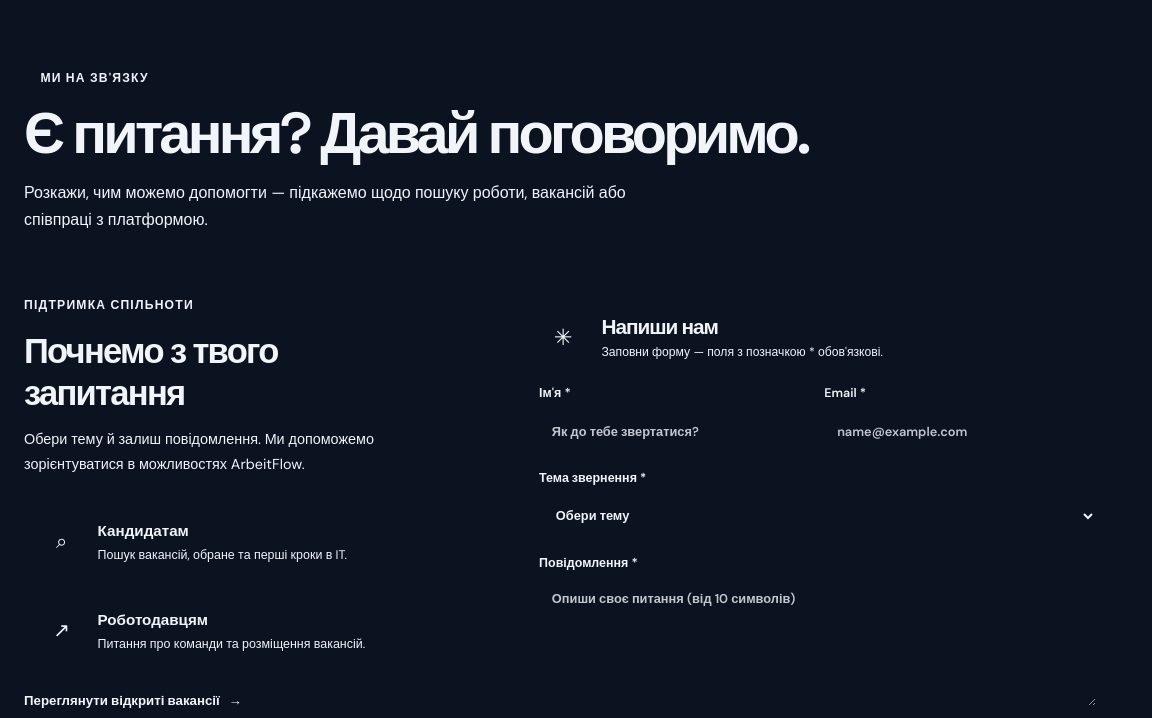
Scenario: ContactsPage › shows a confirmation for valid input and clears it after an edit
Type "Олена" into the field labelled "Ім'я *" at (675, 431), box [539,408,811,454]
Type "olena@example.com" into the field labelled "Email *" at (960, 431), box [824,408,1096,454]
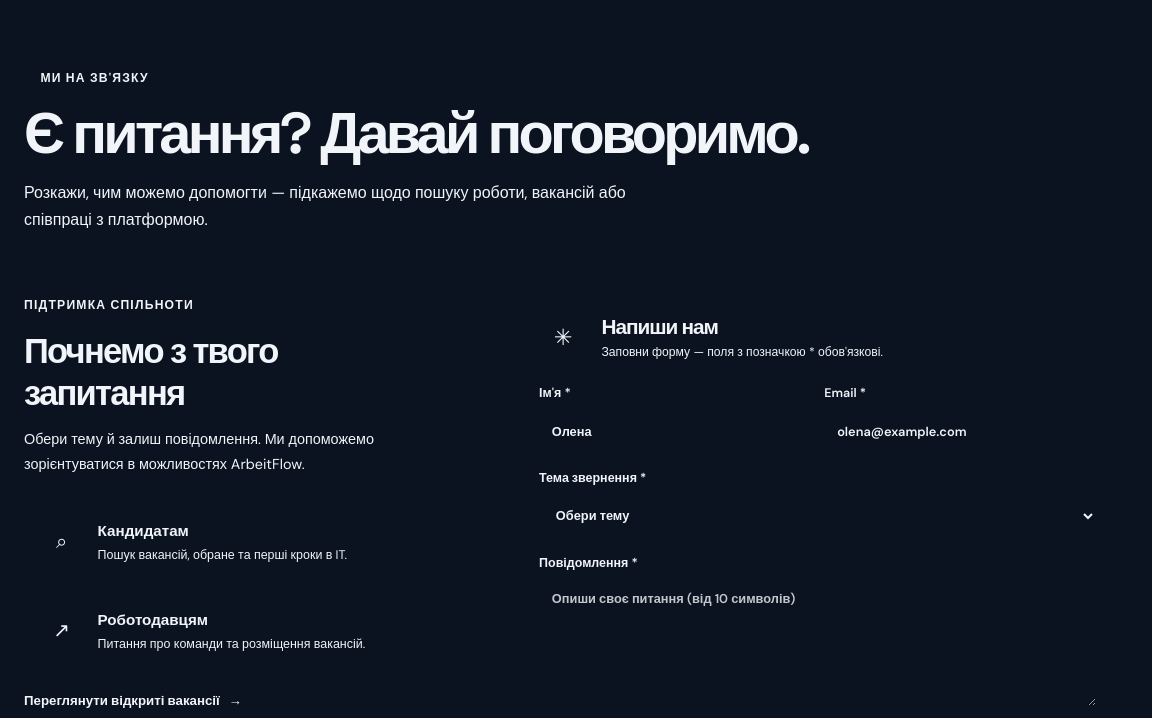
Select "Пошук вакансій" in the dropdown labelled "Тема звернення *" at (818, 516), box [539,493,1096,539]
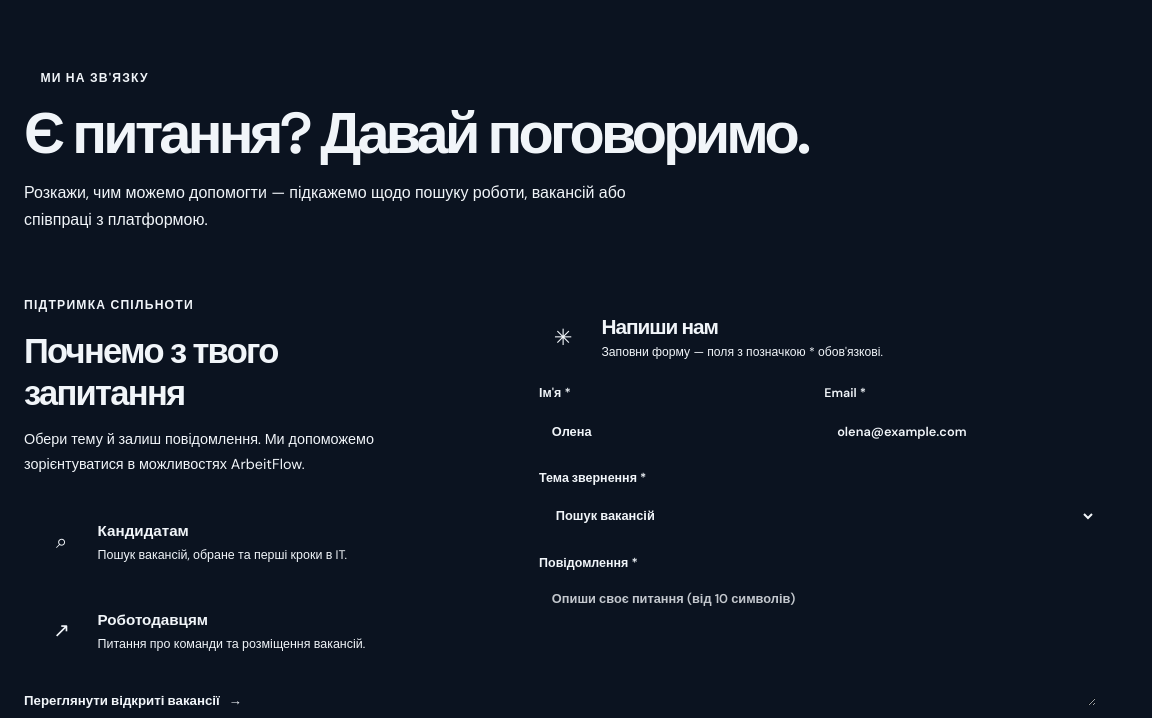
Type "Допоможіть знайти вакансію для початківця." into the text box labelled "Повідомлення *" at (818, 642), box [539,578,1096,706]
(page scrolled)
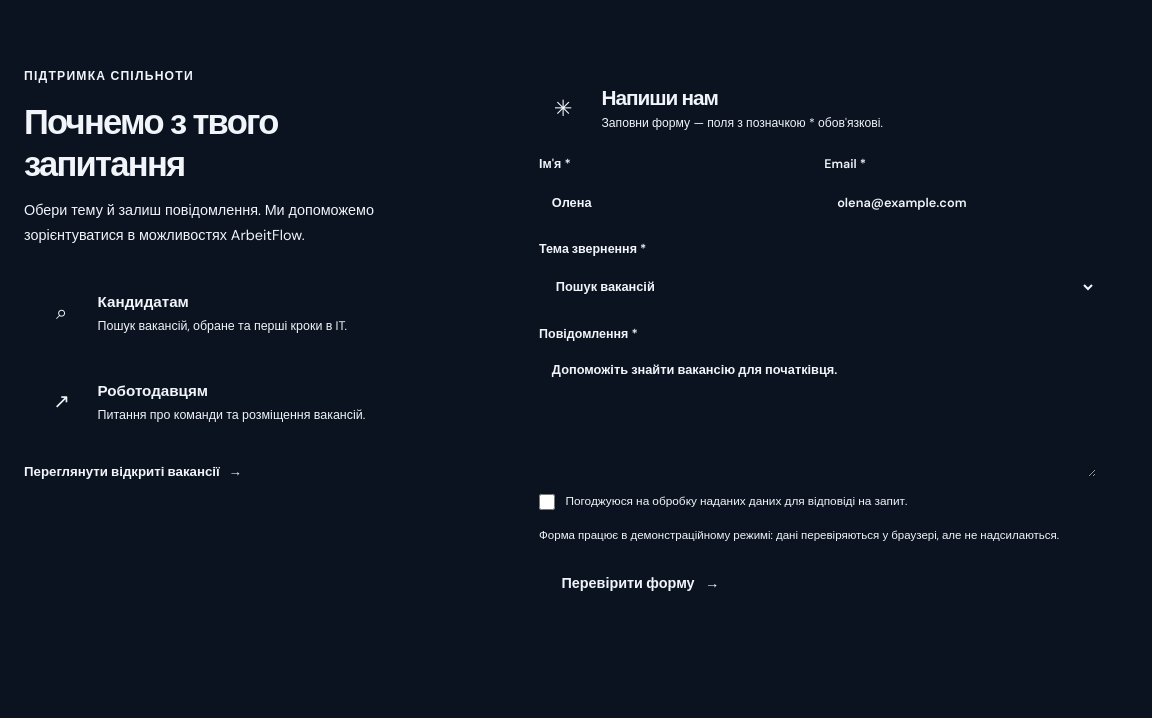
Click the checkbox at (547, 502), box [539,494,555,510]
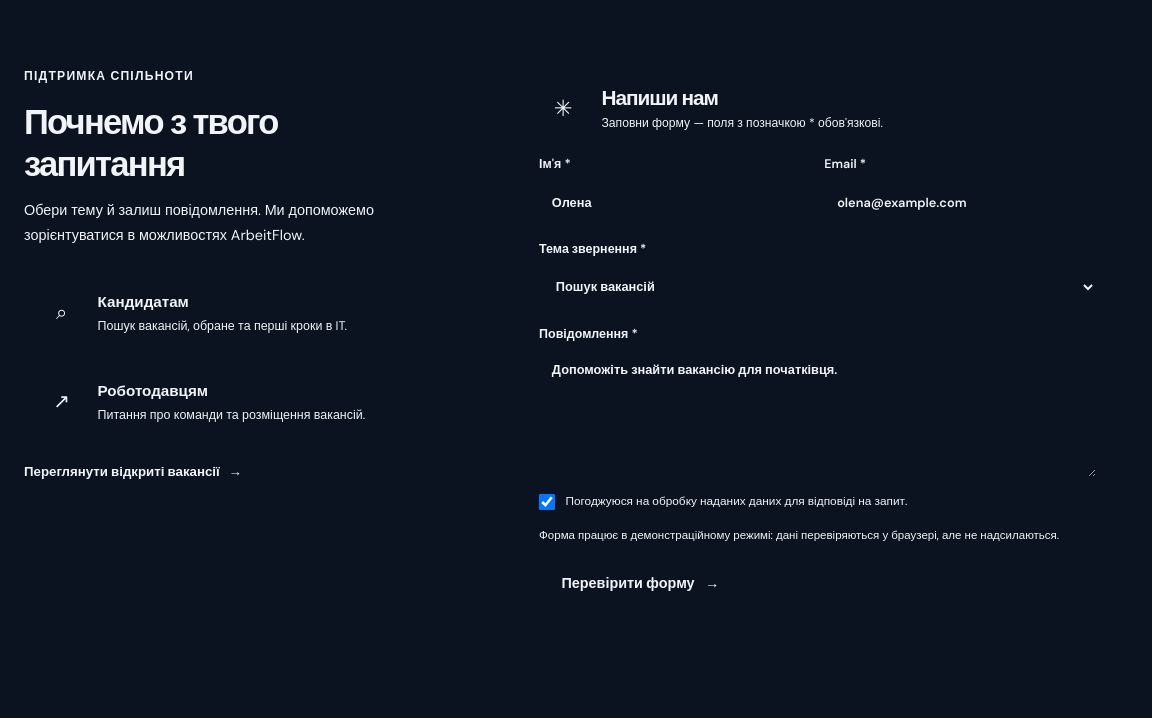
Click the button "Перевірити форму →" at (640, 583), box [539,560,742,606]
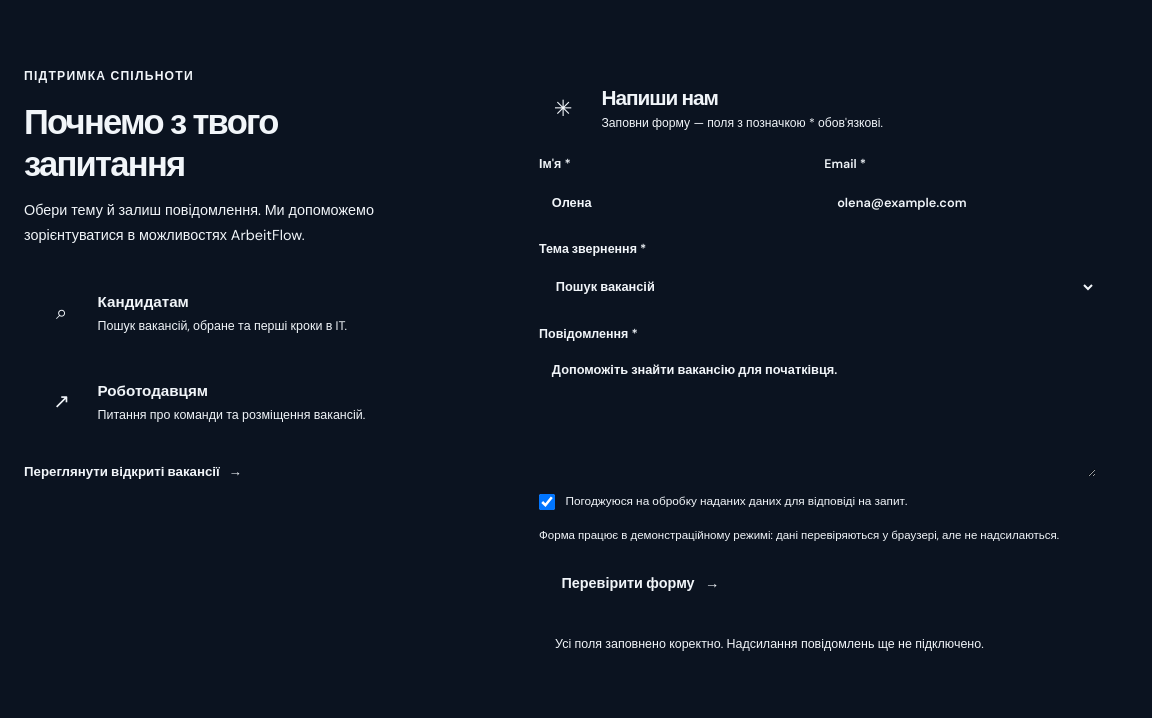
Result: the message shows "Надсилання повідомлень ще не підключено." at [555,636,984,652]
Type " Дякую." into the text box labelled "Повідомлення *" at (818, 413), box [539,349,1096,477]
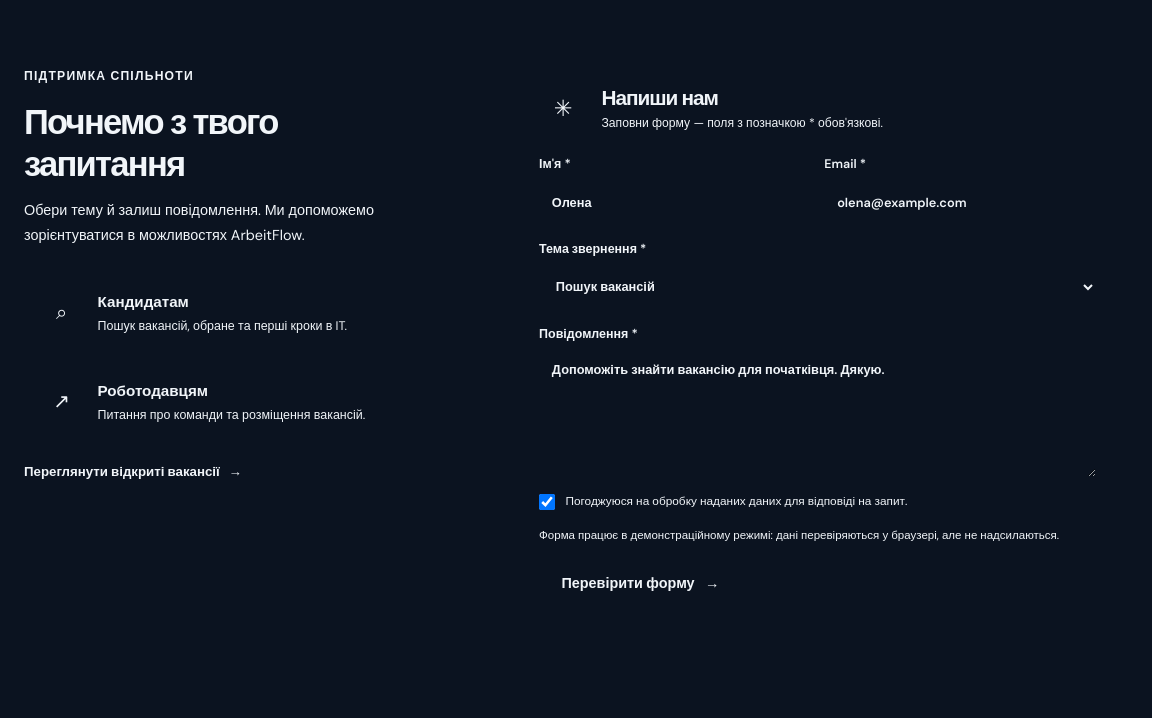
Result: the message "Усі поля заповнено коректно. Надсилання повідомлень ще не підключено." is gone
